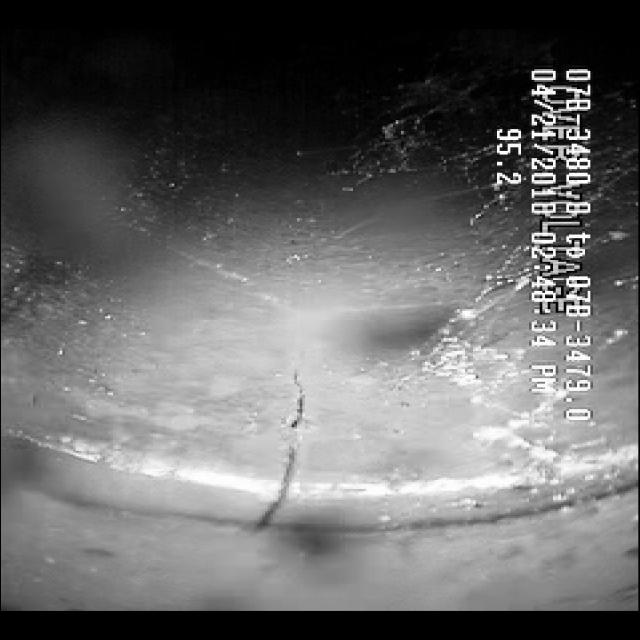Crack: (248, 372, 318, 535)
